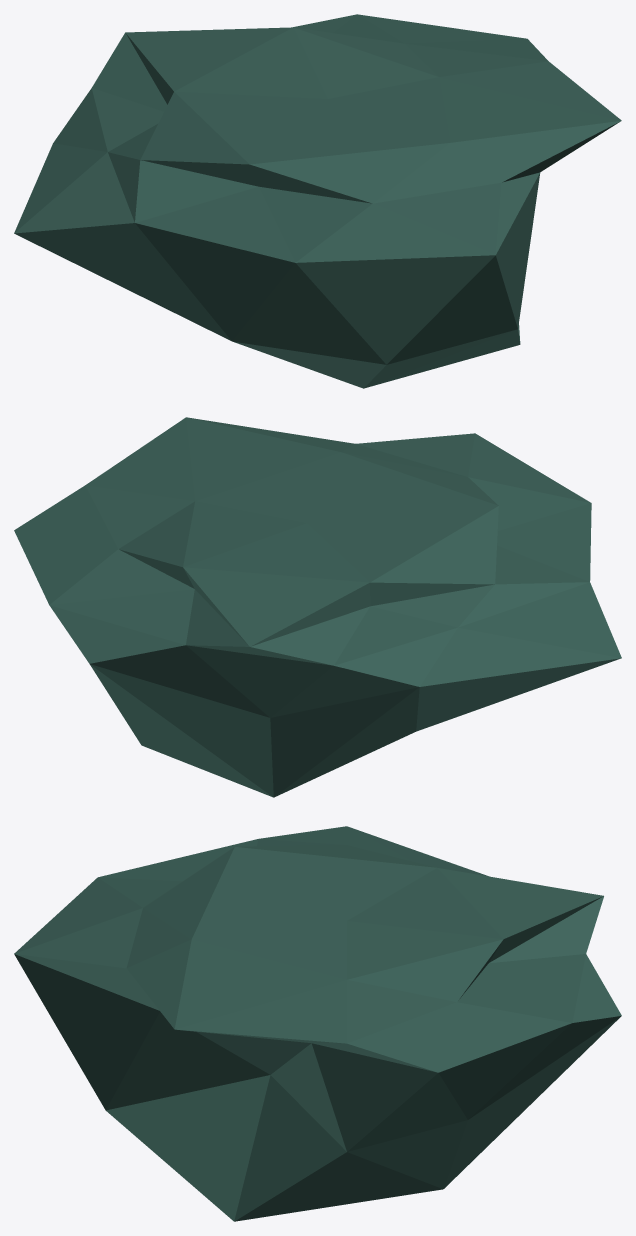
File: Stone_26.fbx
3 views of the same model, one above another, from view 1: azimuth 30°, elevation 25°; view 2: azimuth 150°, elevation 25°; view 3: azimuth 270°, elevation 25° (orthographic).
Parts seen in each view (by area): view 1: Stone 26; view 2: Stone 26; view 3: Stone 26.
Part boxes in pixels (bbox=[...]): Stone 26: bbox=[14, 14, 621, 388]; Stone 26: bbox=[14, 417, 621, 797]; Stone 26: bbox=[14, 826, 621, 1221].
Size of the model in its own units: 165 by 69.44 by 157.
